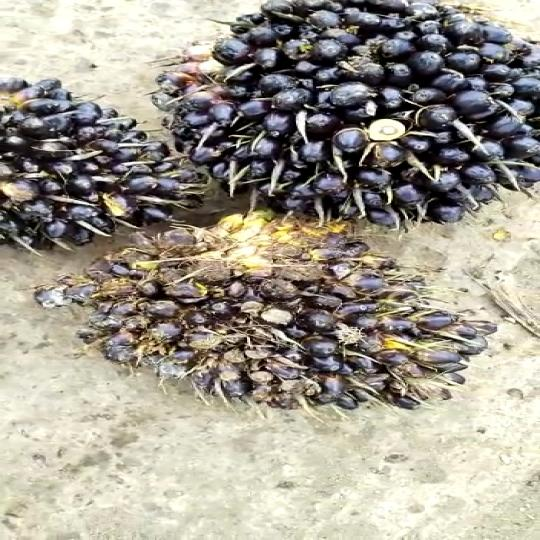mentah: (145, 0, 540, 231), (62, 218, 501, 424), (0, 68, 191, 252)
